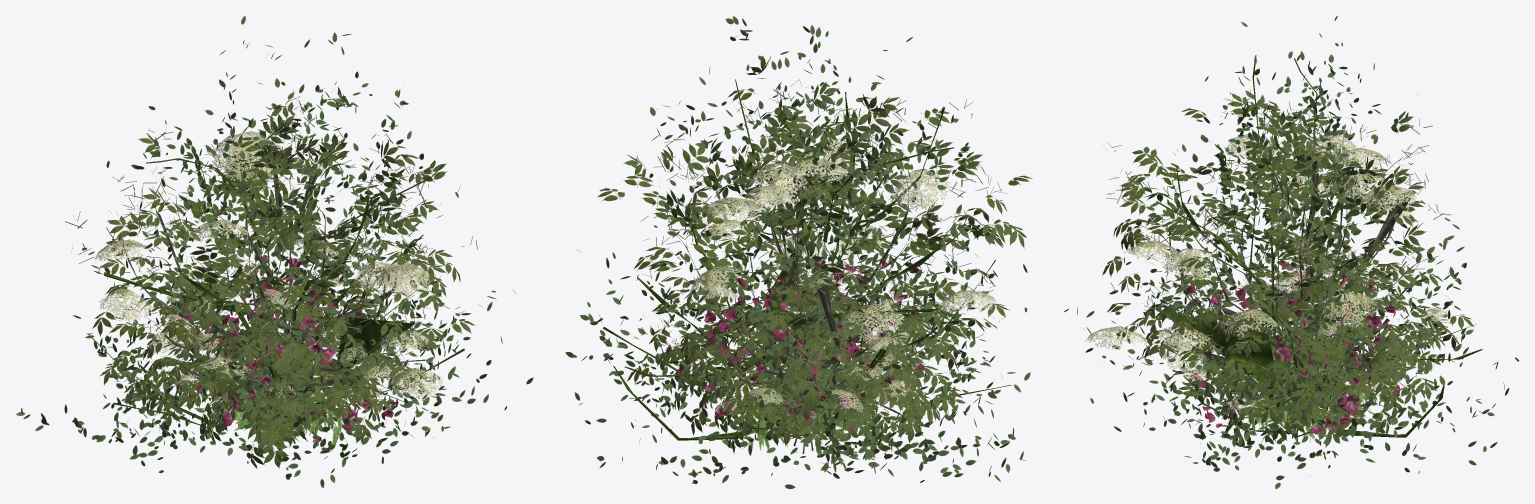
The model's file is vegetation_04.glb.
3 renders of one model, left to right at view 1: azimuth 30°, elevation 25°; view 2: azimuth 150°, elevation 25°; view 3: azimuth 270°, elevation 25°, orthographic. The views are drawn at different scales.
Visible parts, largest first — view 1: prototype_034, prototype_033, prototype_032, prototype_039, prototype_035, prototype_038, prototype_037, prototype_036; view 2: prototype_034, prototype_033, prototype_032, prototype_035, prototype_039, prototype_038, prototype_036, prototype_037; view 3: prototype_034, prototype_033, prototype_032, prototype_038, prototype_039, prototype_035, prototype_036, prototype_037.
Part boxes in pixels (x1,y1,x2,y2): prototype_034: [65, 86, 477, 468]; prototype_033: [16, 15, 533, 488]; prototype_032: [132, 241, 401, 445]; prototype_039: [177, 255, 368, 413]; prototype_035: [228, 291, 333, 427]; prototype_038: [179, 262, 398, 445]; prototype_037: [216, 351, 347, 451]; prototype_036: [198, 360, 343, 450]; prototype_034: [597, 55, 1032, 458]; prototype_033: [565, 16, 1030, 488]; prototype_032: [649, 249, 943, 463]; prototype_035: [744, 287, 863, 433]; prototype_039: [694, 259, 919, 433]; prototype_038: [649, 265, 925, 441]; prototype_036: [743, 361, 883, 453]; prototype_037: [741, 352, 876, 453]; prototype_034: [1086, 93, 1474, 448]; prototype_033: [1064, 16, 1519, 489]; prototype_032: [1182, 225, 1450, 439]; prototype_038: [1190, 286, 1403, 436]; prototype_039: [1186, 263, 1398, 392]; prototype_035: [1256, 287, 1351, 427]; prototype_036: [1238, 349, 1374, 444]; prototype_037: [1227, 347, 1378, 436].
Size of the model in its own units: 4.86 by 4.36 by 4.35.
14 materials, 14 textured.
